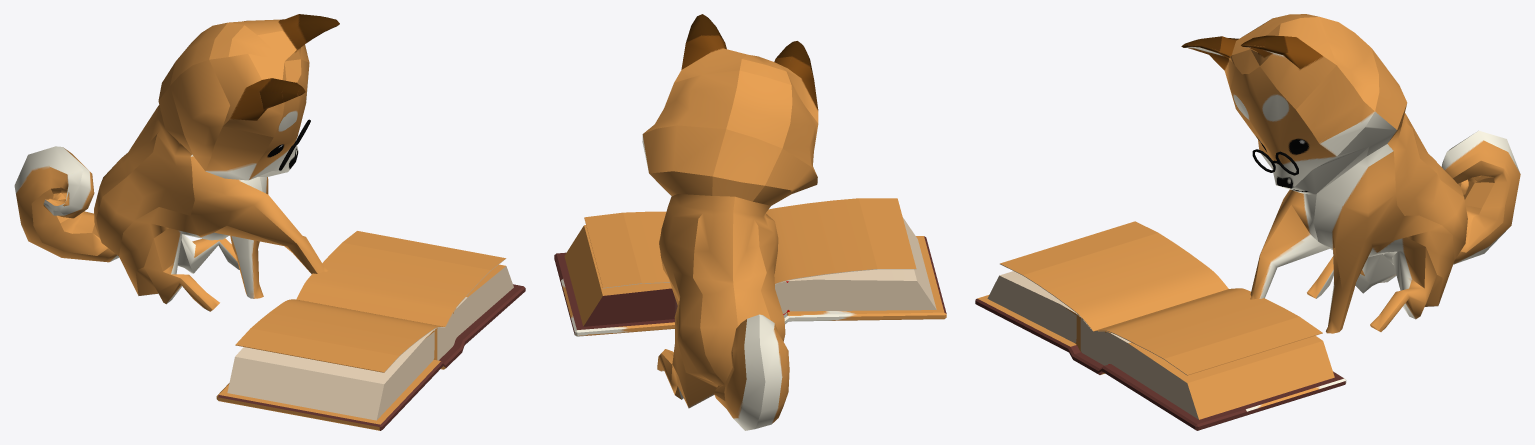
Rendered from book_frame44.obj.
3 renders of one model, left to right at view 1: azimuth 30°, elevation 25°; view 2: azimuth 150°, elevation 25°; view 3: azimuth 270°, elevation 25°, orthographic. The views are drawn at different scales.
Parts seen in each view (by area): view 1: StidyGlasses_Computer_Sitting:Sitting:newRigging:BodzL1, polySurface1; view 2: StidyGlasses_Computer_Sitting:Sitting:newRigging:BodzL1, polySurface1; view 3: StidyGlasses_Computer_Sitting:Sitting:newRigging:BodzL1, polySurface1.
Part boxes in pixels (x1,y1,x2,y2): StidyGlasses_Computer_Sitting:Sitting:newRigging:BodzL1: (14,14,339,311); polySurface1: (216,231,525,430); StidyGlasses_Computer_Sitting:Sitting:newRigging:BodzL1: (642,14,818,430); polySurface1: (554,198,946,336); StidyGlasses_Computer_Sitting:Sitting:newRigging:BodzL1: (1181,14,1520,333); polySurface1: (975,221,1346,430).
Size of the model in its own units: 9 by 7.02 by 11.25.
4 materials, 4 textured.
